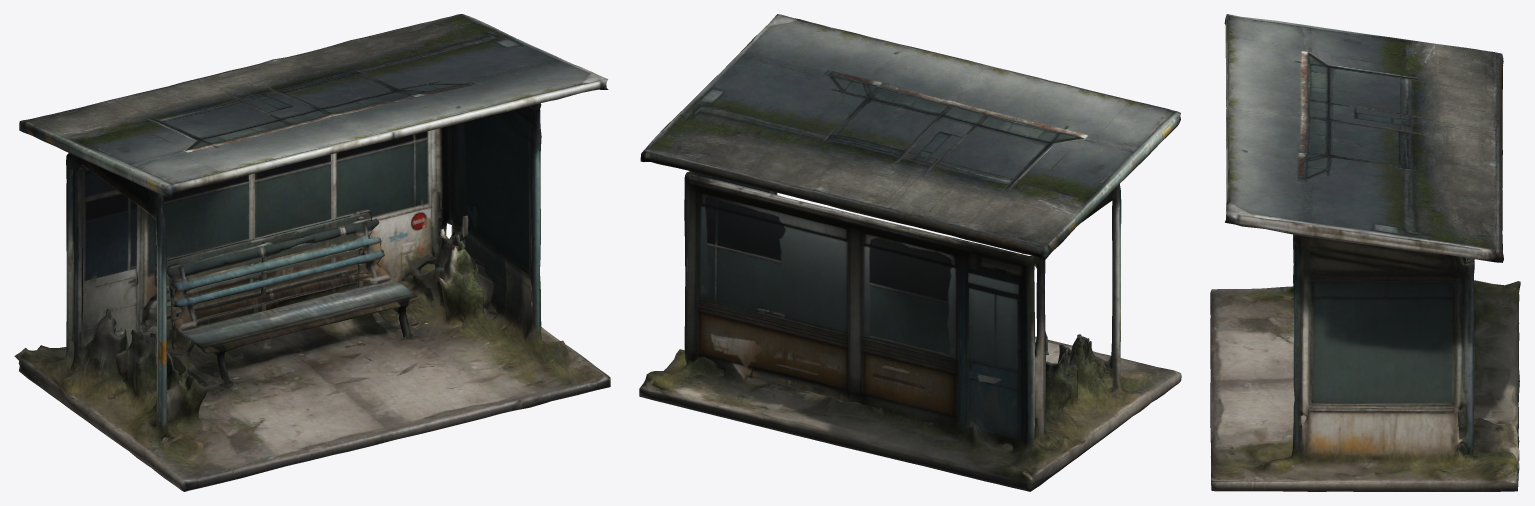
Rendered from prop.glb.
The picture shows the model from 3 angles, left to right: view 1: azimuth 30°, elevation 25°; view 2: azimuth 150°, elevation 25°; view 3: azimuth 270°, elevation 25°; orthographic projection. The views are drawn at different scales.
Size of the model in its own units: 1.98 by 1.3 by 1.29.
Materials: 1 (1 with a texture image).
